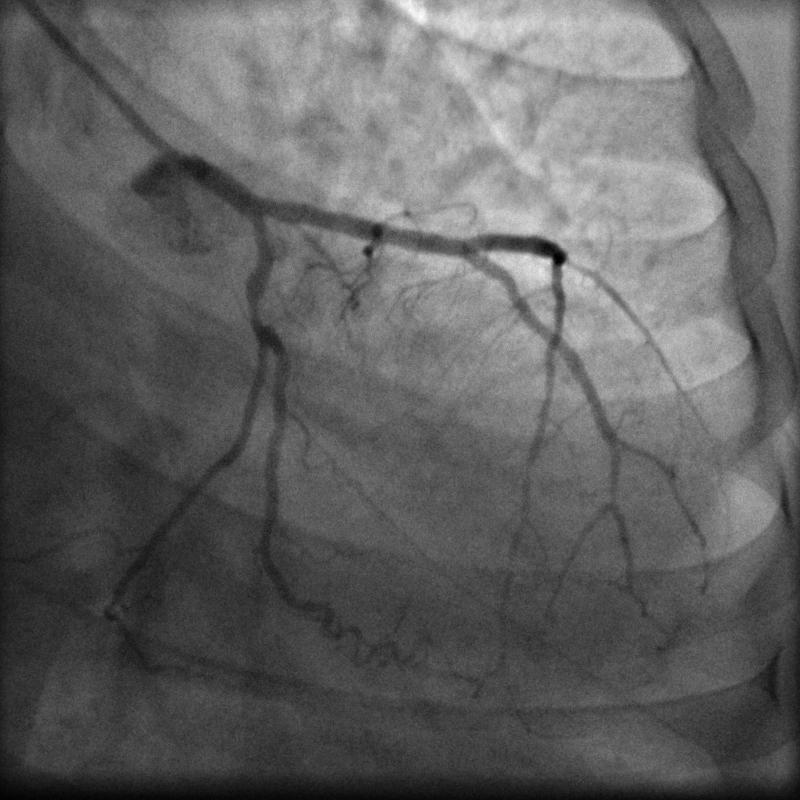Stenosis: (234, 287, 277, 333)
